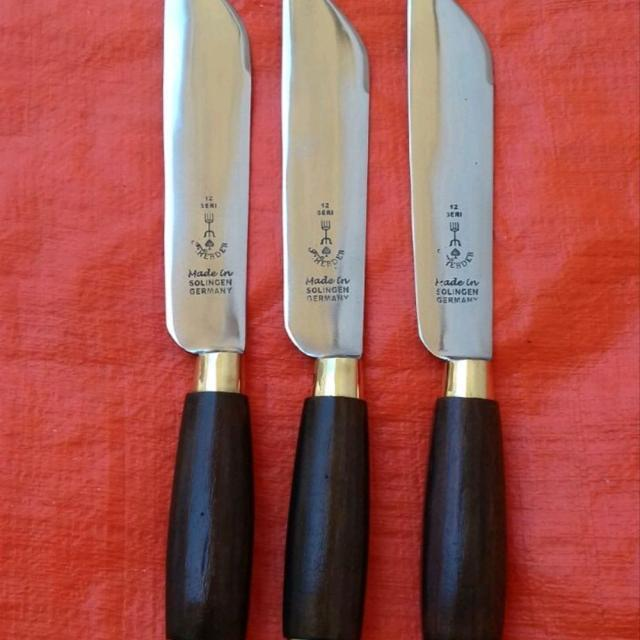Pisau: (271, 0, 371, 640)
